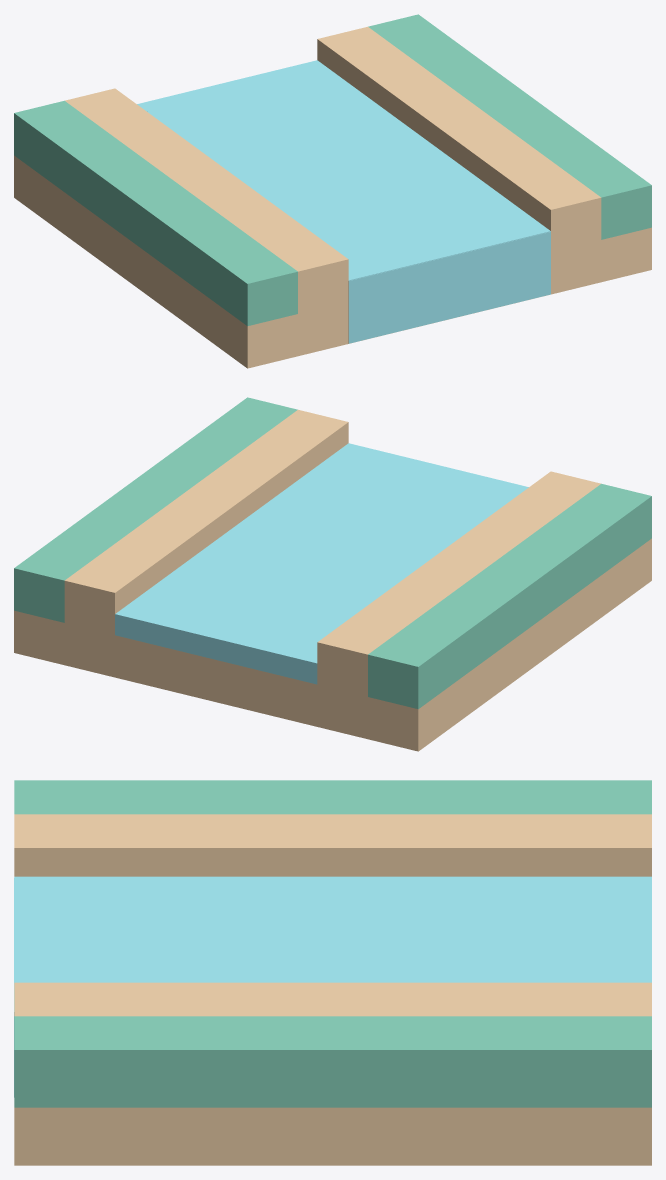
The model's file is autumn_tile_riverStraightEnd.fbx.
3 renders of one model, top to bottom at view 1: azimuth 30°, elevation 25°; view 2: azimuth 150°, elevation 25°; view 3: azimuth 270°, elevation 25°, orthographic. The views are drawn at different scales.
Parts seen in each view (by area): view 1: tile_riverStraight, Cube; view 2: tile_riverStraight; view 3: tile_riverStraight.
Part boxes in pixels (left/top/right/bottom): tile_riverStraight: left=14, top=14, right=651, bottom=368; Cube: left=348, top=232, right=550, bottom=343; tile_riverStraight: left=14, top=397, right=651, bottom=751; tile_riverStraight: left=14, top=780, right=651, bottom=1165.
Bounding box in the file's own units: 100 × 20 × 100.
